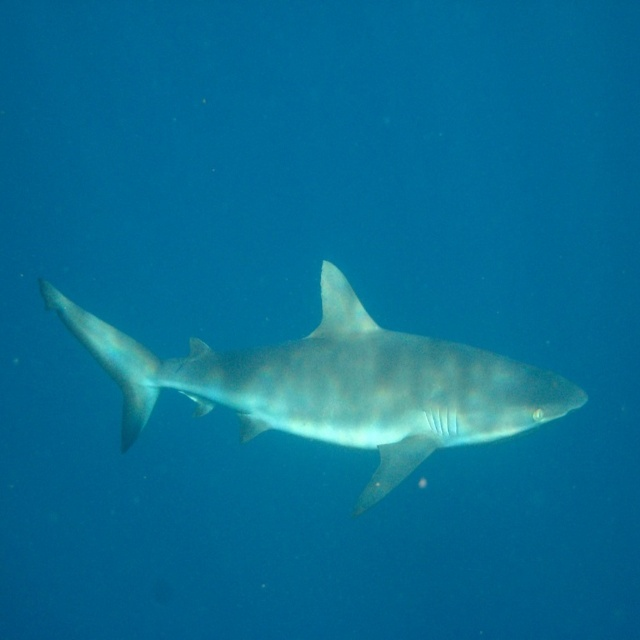Shark: (38, 254, 593, 516)
